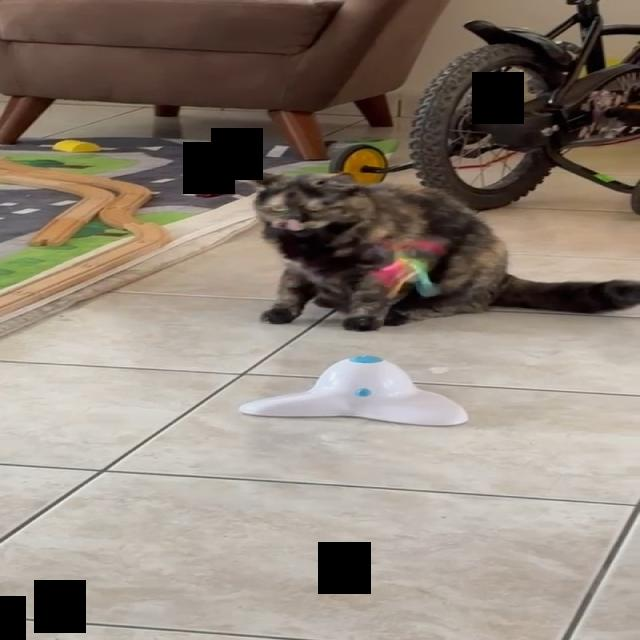authorized: (240, 168, 639, 332)
